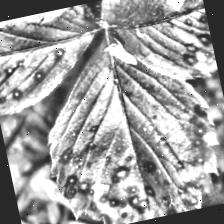Leaf Spot: (24, 14, 224, 224), (0, 0, 116, 116), (97, 0, 218, 96)
